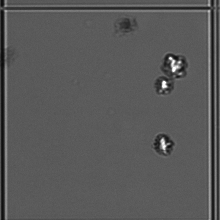Dead Cell: (115, 14, 141, 40)
Living Cell: (159, 51, 193, 85), (149, 130, 178, 159), (151, 74, 177, 100)
